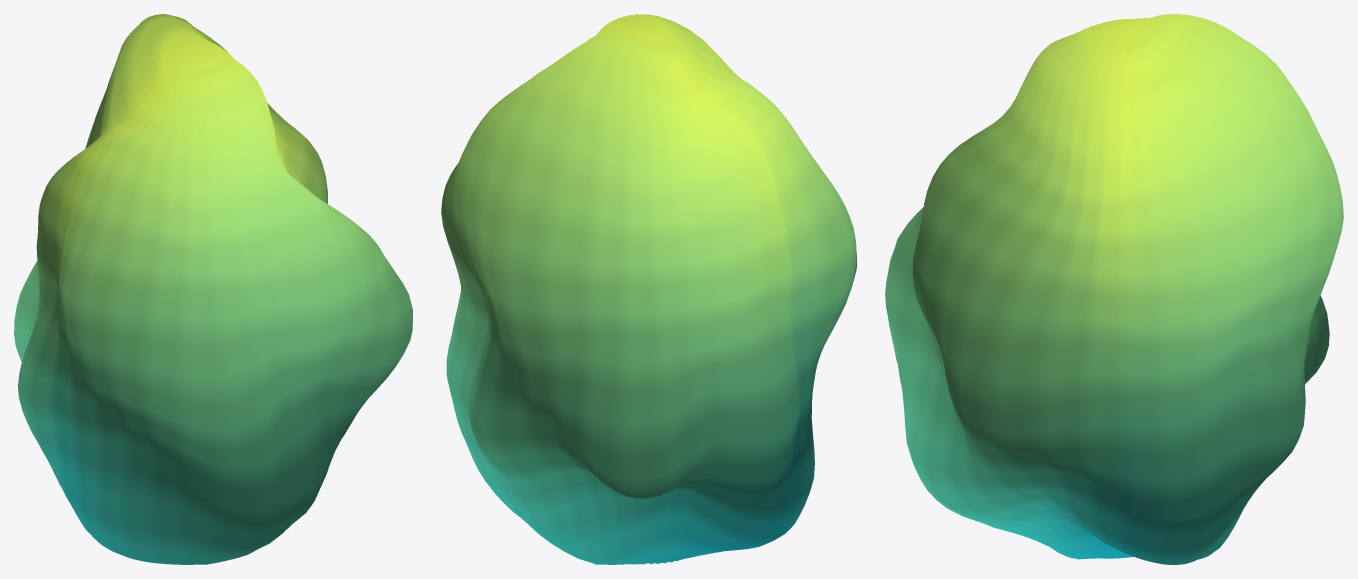
Rendered from Mode-03-Treble.gltf.
3 renders of one model, left to right at view 1: azimuth 30°, elevation 25°; view 2: azimuth 150°, elevation 25°; view 3: azimuth 270°, elevation 25°, orthographic. The views are drawn at different scales.
Visible parts, largest first — view 1: Organism; view 2: Organism; view 3: Organism.
Part boxes in pixels (box(x1,y1,x2,y2)): Organism: box(14, 14, 412, 564); Organism: box(441, 14, 856, 564); Organism: box(885, 14, 1343, 564).
Size of the model in its own units: 1.65 by 2.42 by 1.83.
1 material, 1 textured.
